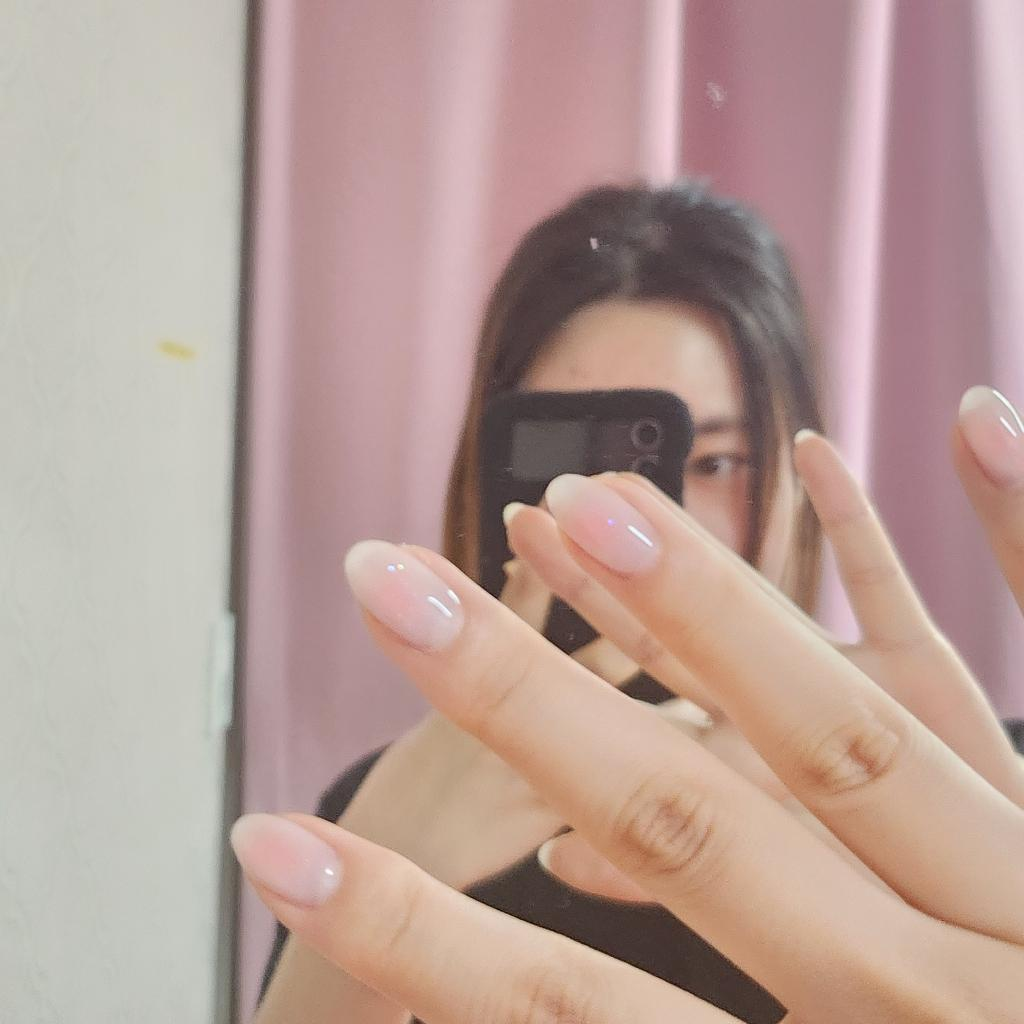nail: (342, 537, 464, 653), (543, 470, 662, 576), (228, 810, 344, 908), (956, 383, 1022, 489)
